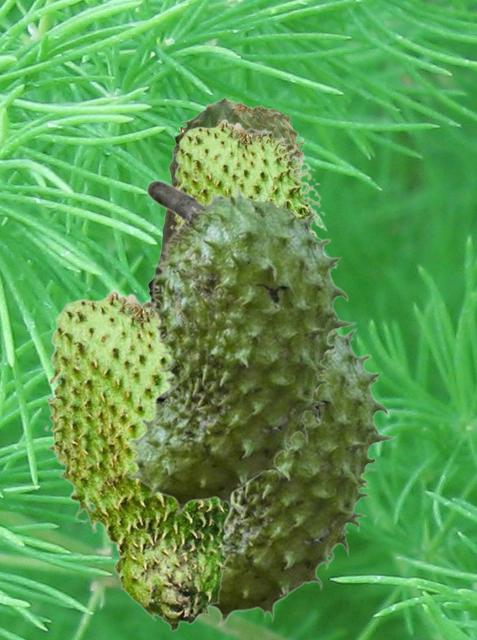guyabano: (124, 179, 356, 516), (43, 288, 247, 631), (209, 326, 396, 626), (146, 96, 305, 295), (169, 118, 327, 252)
